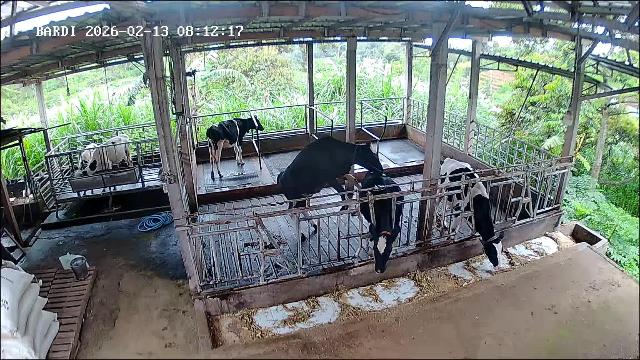mounting: (280, 134, 382, 238)
